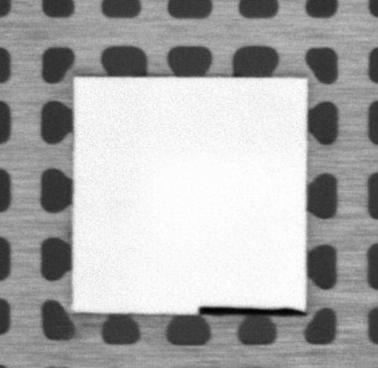DIE_BROKEN: (196, 304, 306, 318)
